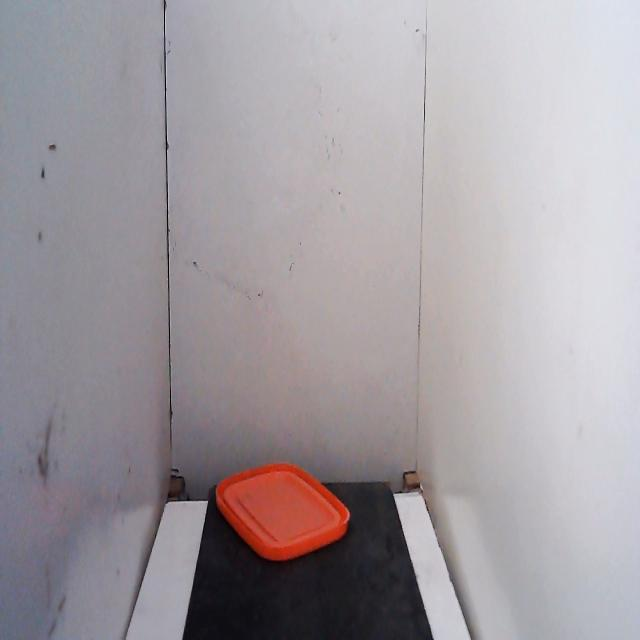plastico: (212, 444, 355, 570)
